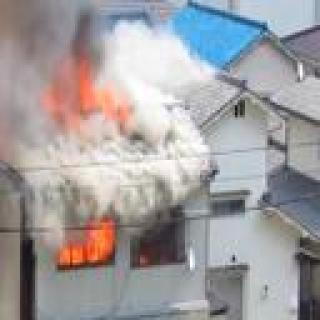fire: (31, 47, 126, 131), (51, 225, 118, 272)
